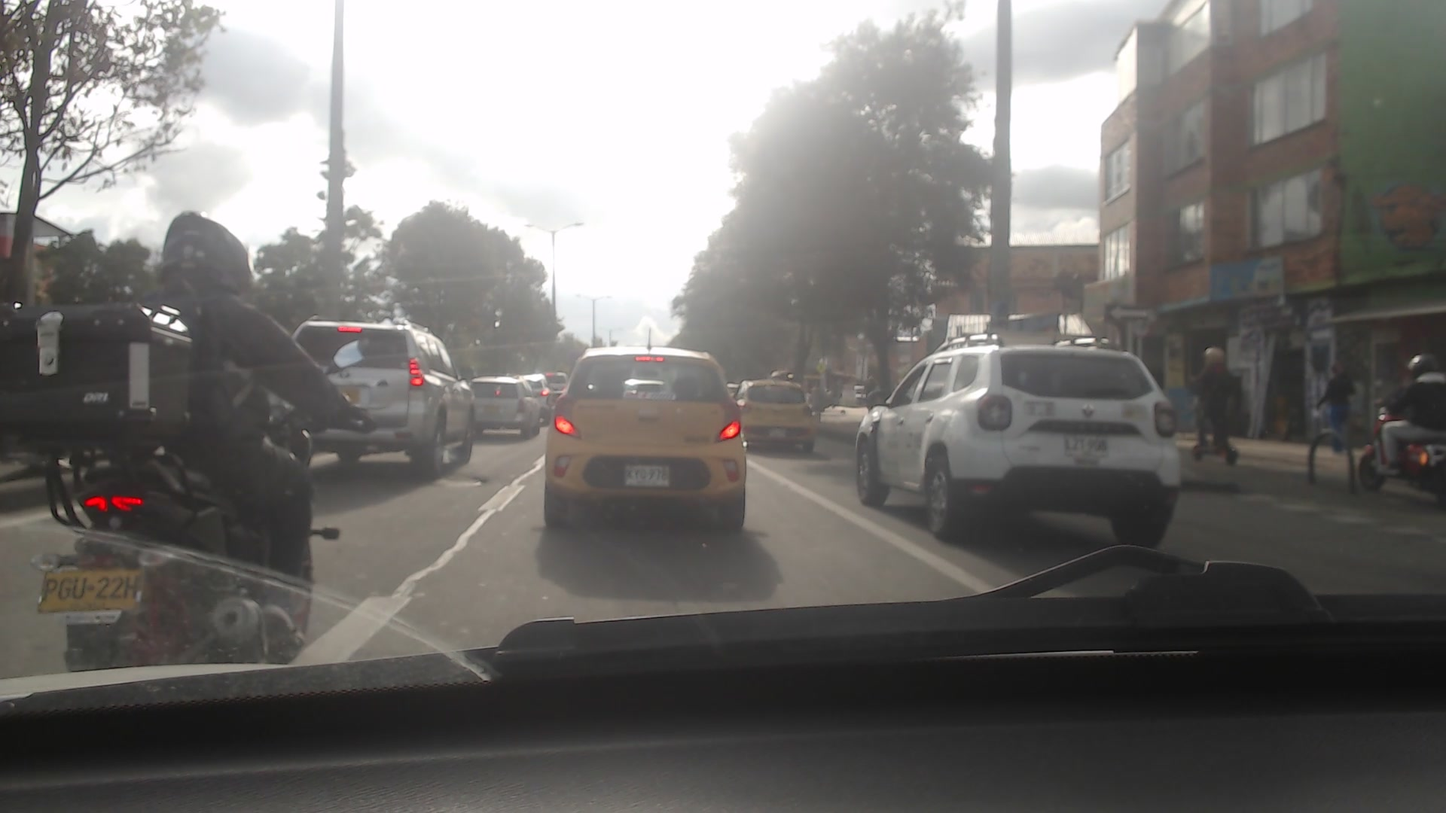car: (854, 332, 1187, 545), (547, 341, 761, 524), (271, 313, 476, 464), (730, 372, 825, 455), (463, 378, 544, 440)
motorcycle: (38, 466, 337, 685)
person: (117, 213, 310, 589), (1386, 348, 1446, 455), (1193, 341, 1234, 464), (1321, 359, 1356, 452)
